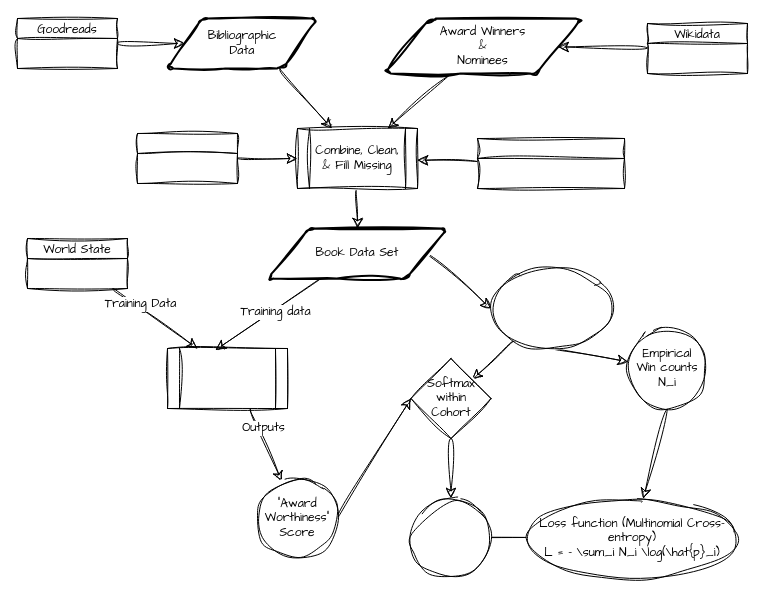
This 765x596 diagram has some shape labels left out. The box of each missing label's shape, as (x1, y1, x2, y2) in pixels:
Library of Congress: (476, 138, 624, 188)
Model: (166, 348, 288, 408)
Open Library: (136, 132, 238, 184)
Predicted "Win Probabilty" \hat{p}_i: (410, 498, 491, 578)
Yearly cohorts: (490, 268, 611, 348)
